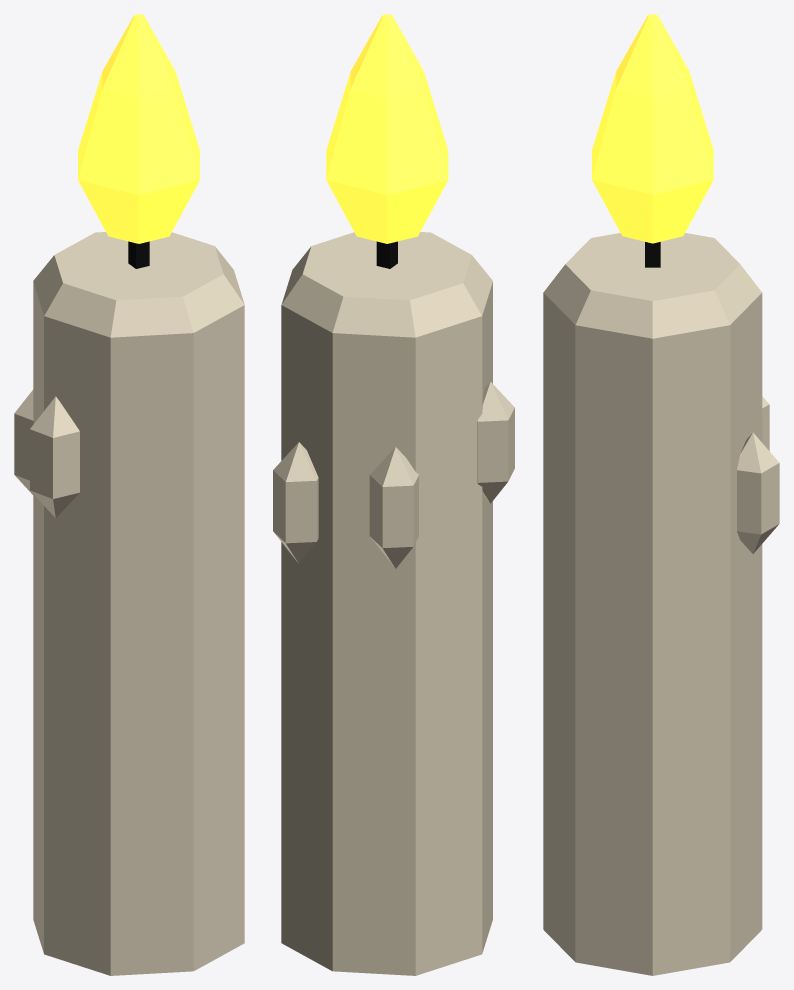
The model's file is SM_Candle.glb.
3 renders of one model, left to right at view 1: azimuth 30°, elevation 25°; view 2: azimuth 150°, elevation 25°; view 3: azimuth 270°, elevation 25°, orthographic.
Parts seen in each view (by area): view 1: SM_Candle; view 2: SM_Candle; view 3: SM_Candle.
Boxes of the visible parts, x1,y1,x2,y2 form: SM_Candle: (14,14,244,975); SM_Candle: (273,14,514,975); SM_Candle: (543,14,779,975).
Bounding box in the file's own units: 0.062 × 0.258 × 0.0604.
Materials: 1 (1 with a texture image).
